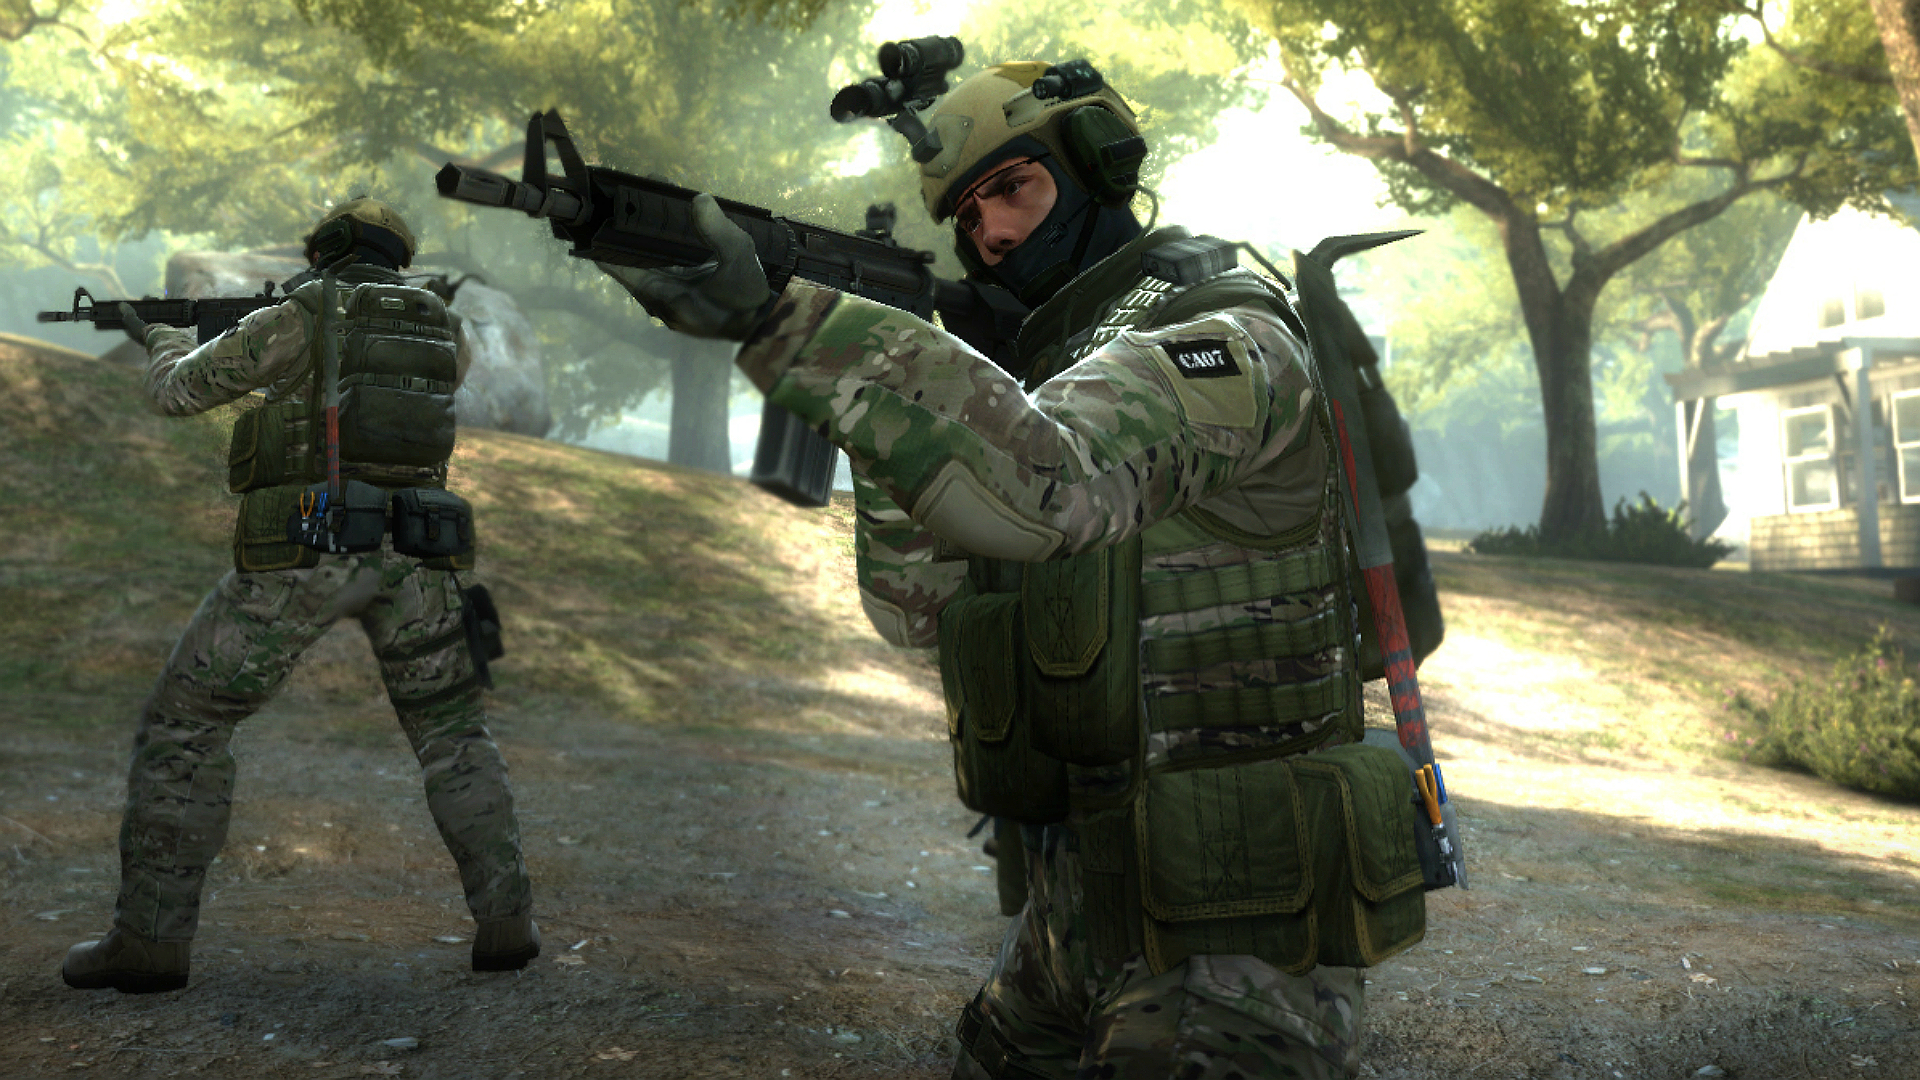c: (828, 46, 1437, 1080), (86, 194, 493, 1006)
ch: (885, 47, 1160, 309), (305, 195, 413, 306)
